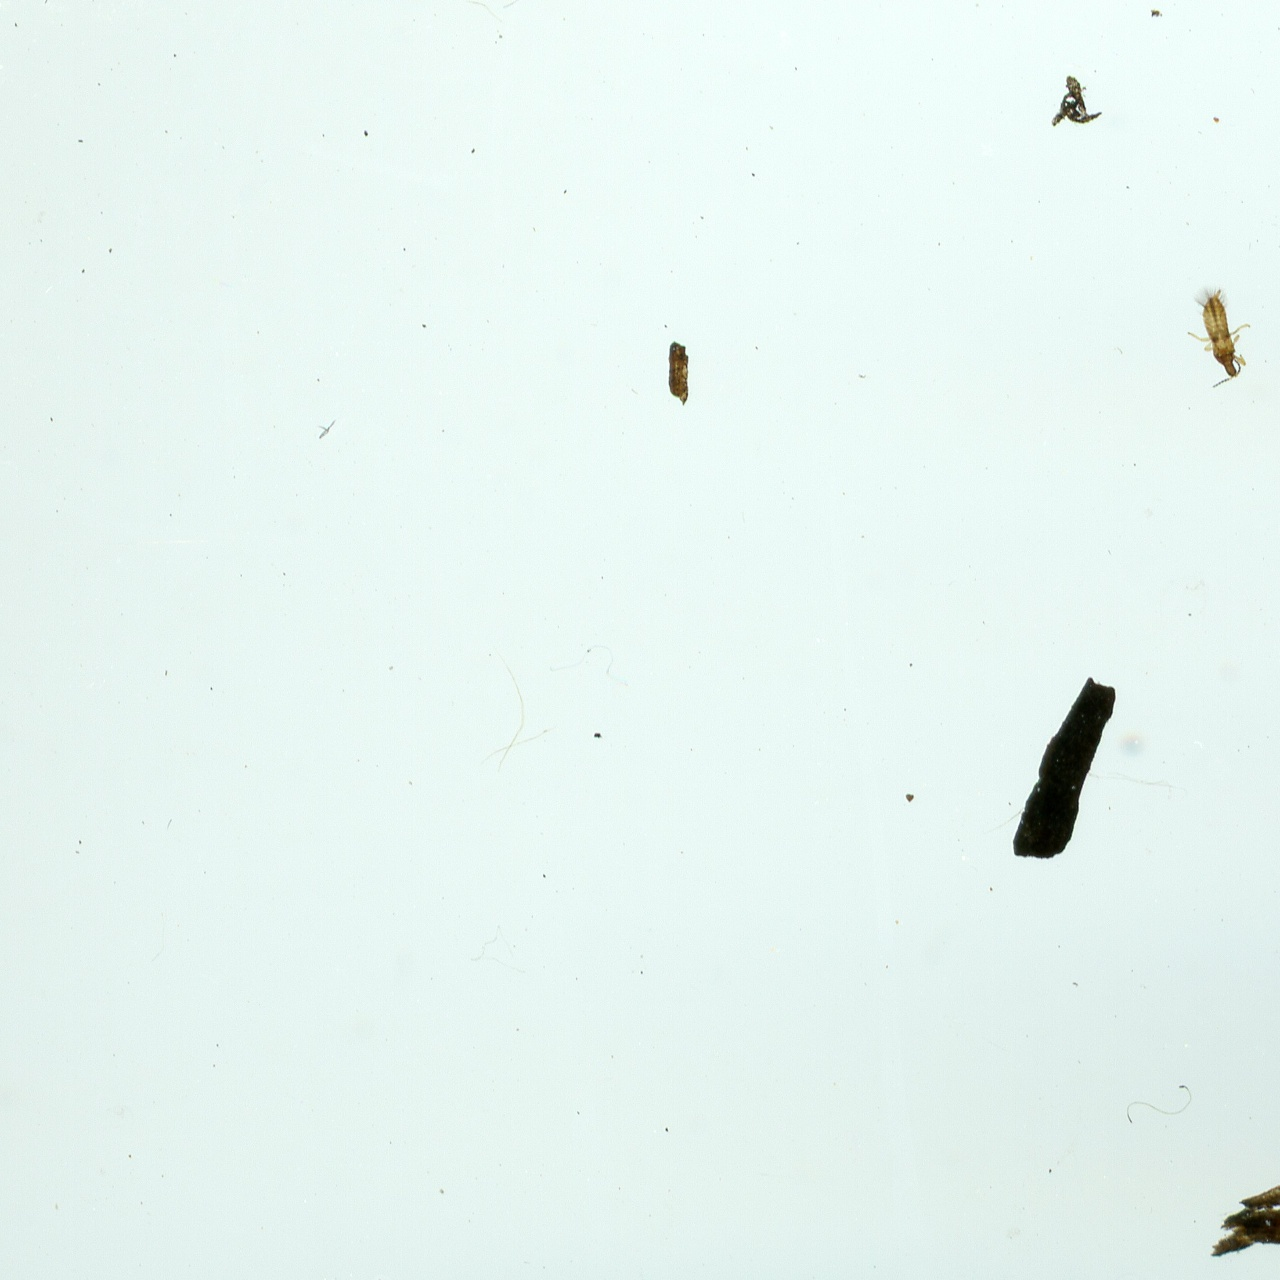arthropod: (1185, 285, 1254, 390)
